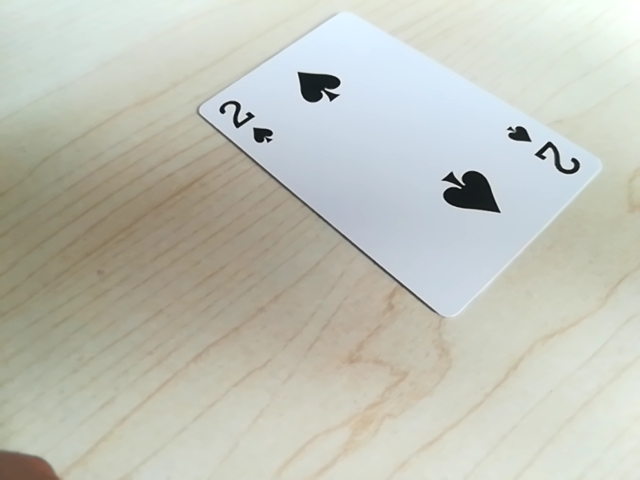ht 2: (498, 121, 586, 183), (207, 92, 274, 151)
